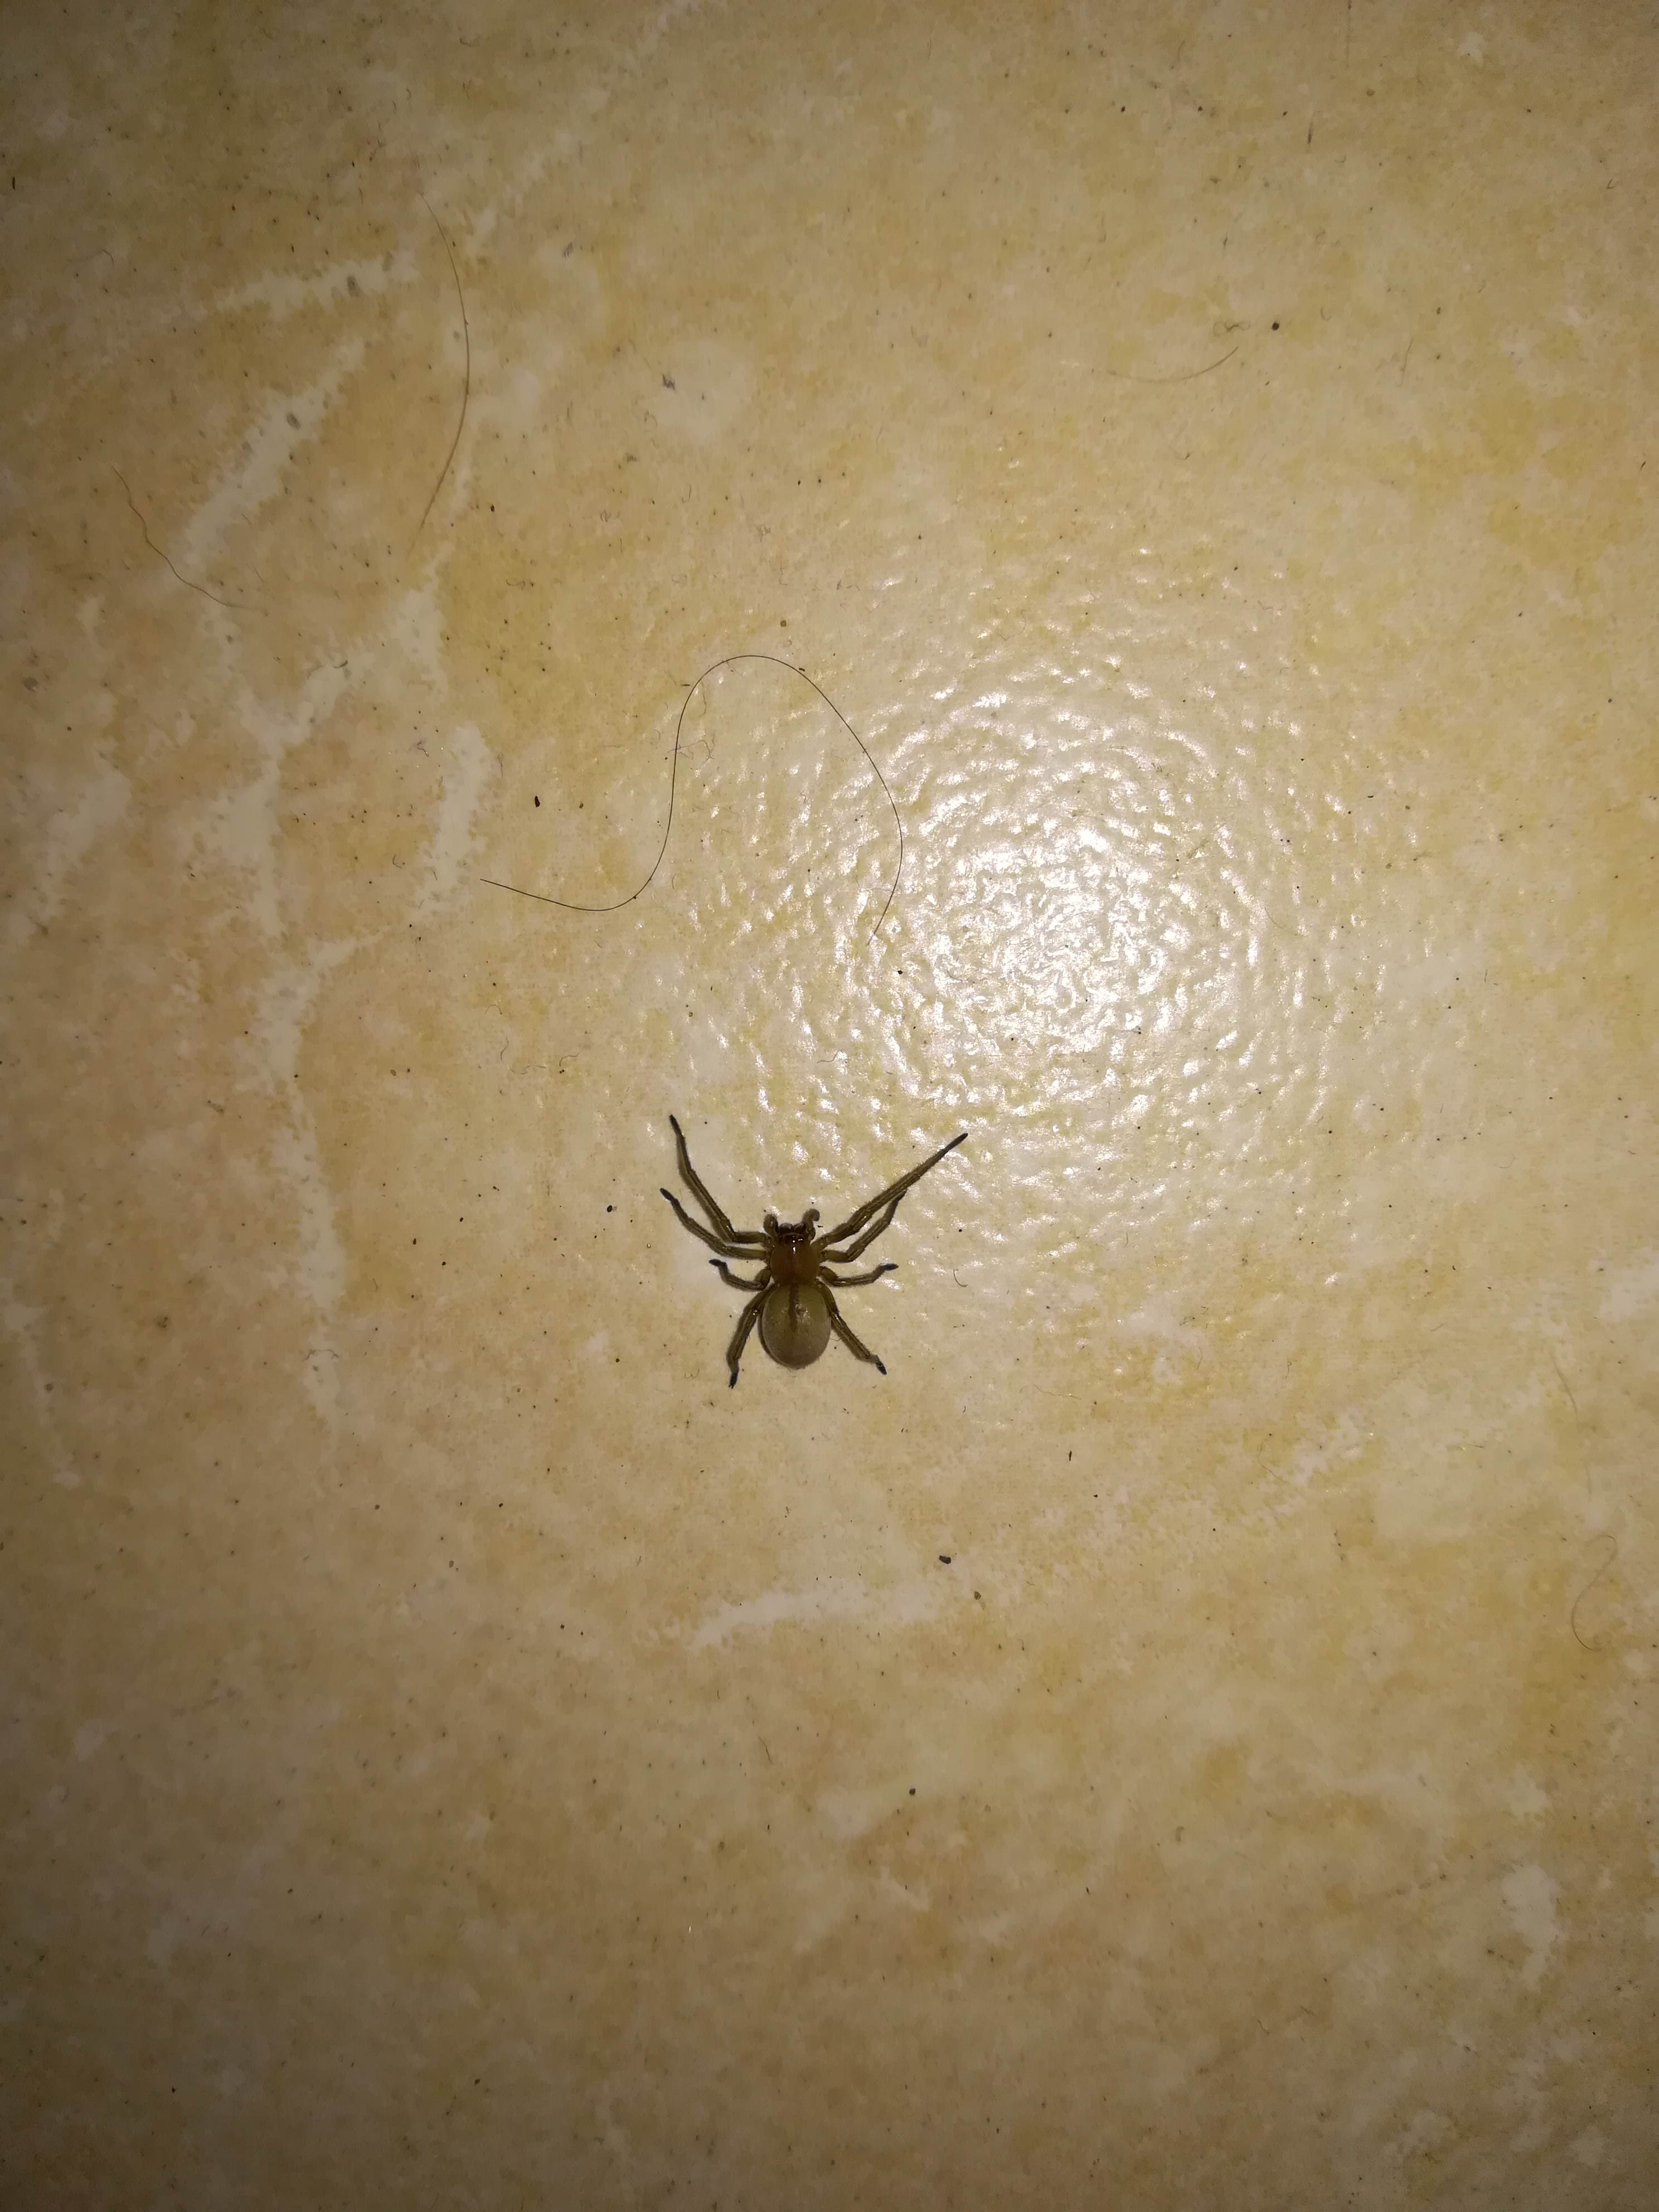spider: (620, 1066, 1014, 1423)
